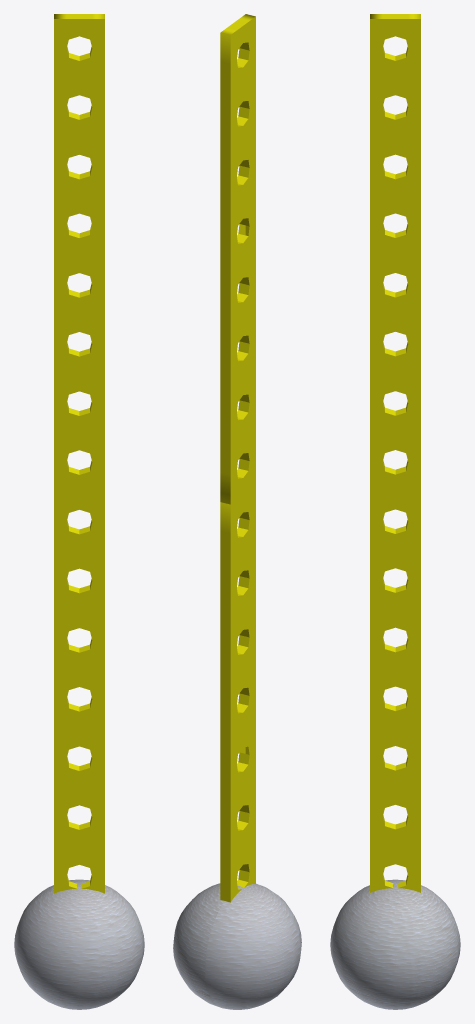
Rendered from Industrialist Braking System.fbx.
3 views of the same model, side by side, from view 1: azimuth 90°, elevation 25°; view 2: azimuth 150°, elevation 25°; view 3: azimuth 270°, elevation 25° (orthographic).
Visible parts, largest first — view 1: Industrialist_Meccano, Industrialist_Styrofoam_Ball; view 2: Industrialist_Meccano, Industrialist_Styrofoam_Ball; view 3: Industrialist_Meccano, Industrialist_Styrofoam_Ball.
Part boxes in pixels (left/top/right/bottom): Industrialist_Meccano: left=54, top=14, right=104, bottom=893; Industrialist_Styrofoam_Ball: left=14, top=879, right=144, bottom=1009; Industrialist_Meccano: left=220, top=14, right=255, bottom=902; Industrialist_Styrofoam_Ball: left=173, top=883, right=301, bottom=1009; Industrialist_Meccano: left=370, top=14, right=420, bottom=892; Industrialist_Styrofoam_Ball: left=330, top=879, right=460, bottom=1009.
Bounding box in the file's own units: 3.45 × 28.8 × 3.45.
2 materials, 1 textured.
